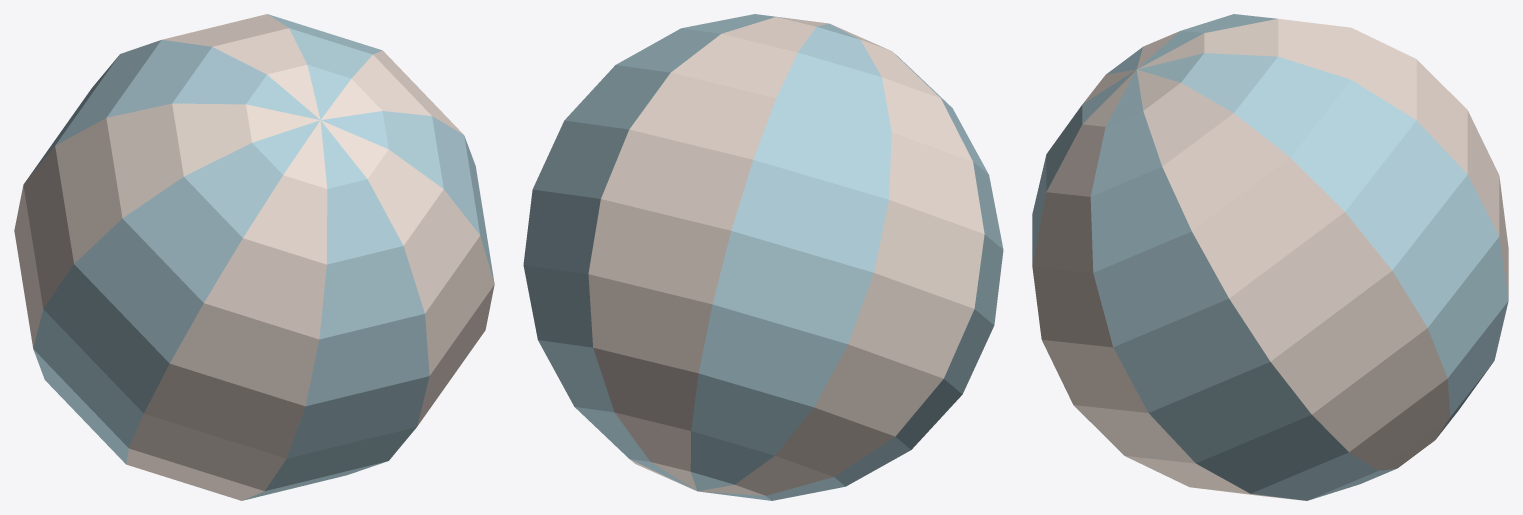
Rendered from Playground_Ball.fbx.
The picture shows the model from 3 angles, left to right: view 1: azimuth 30°, elevation 25°; view 2: azimuth 150°, elevation 25°; view 3: azimuth 270°, elevation 25°; orthographic projection.
Visible parts, largest first — view 1: Playground_Ball; view 2: Playground_Ball; view 3: Playground_Ball.
Boxes of the visible parts, left/top/right/bottom form: Playground_Ball: left=14, top=14, right=494, bottom=500; Playground_Ball: left=523, top=14, right=1003, bottom=500; Playground_Ball: left=1032, top=14, right=1508, bottom=500.
Bounding box in the file's own units: 29.17 × 28.67 × 28.15.
